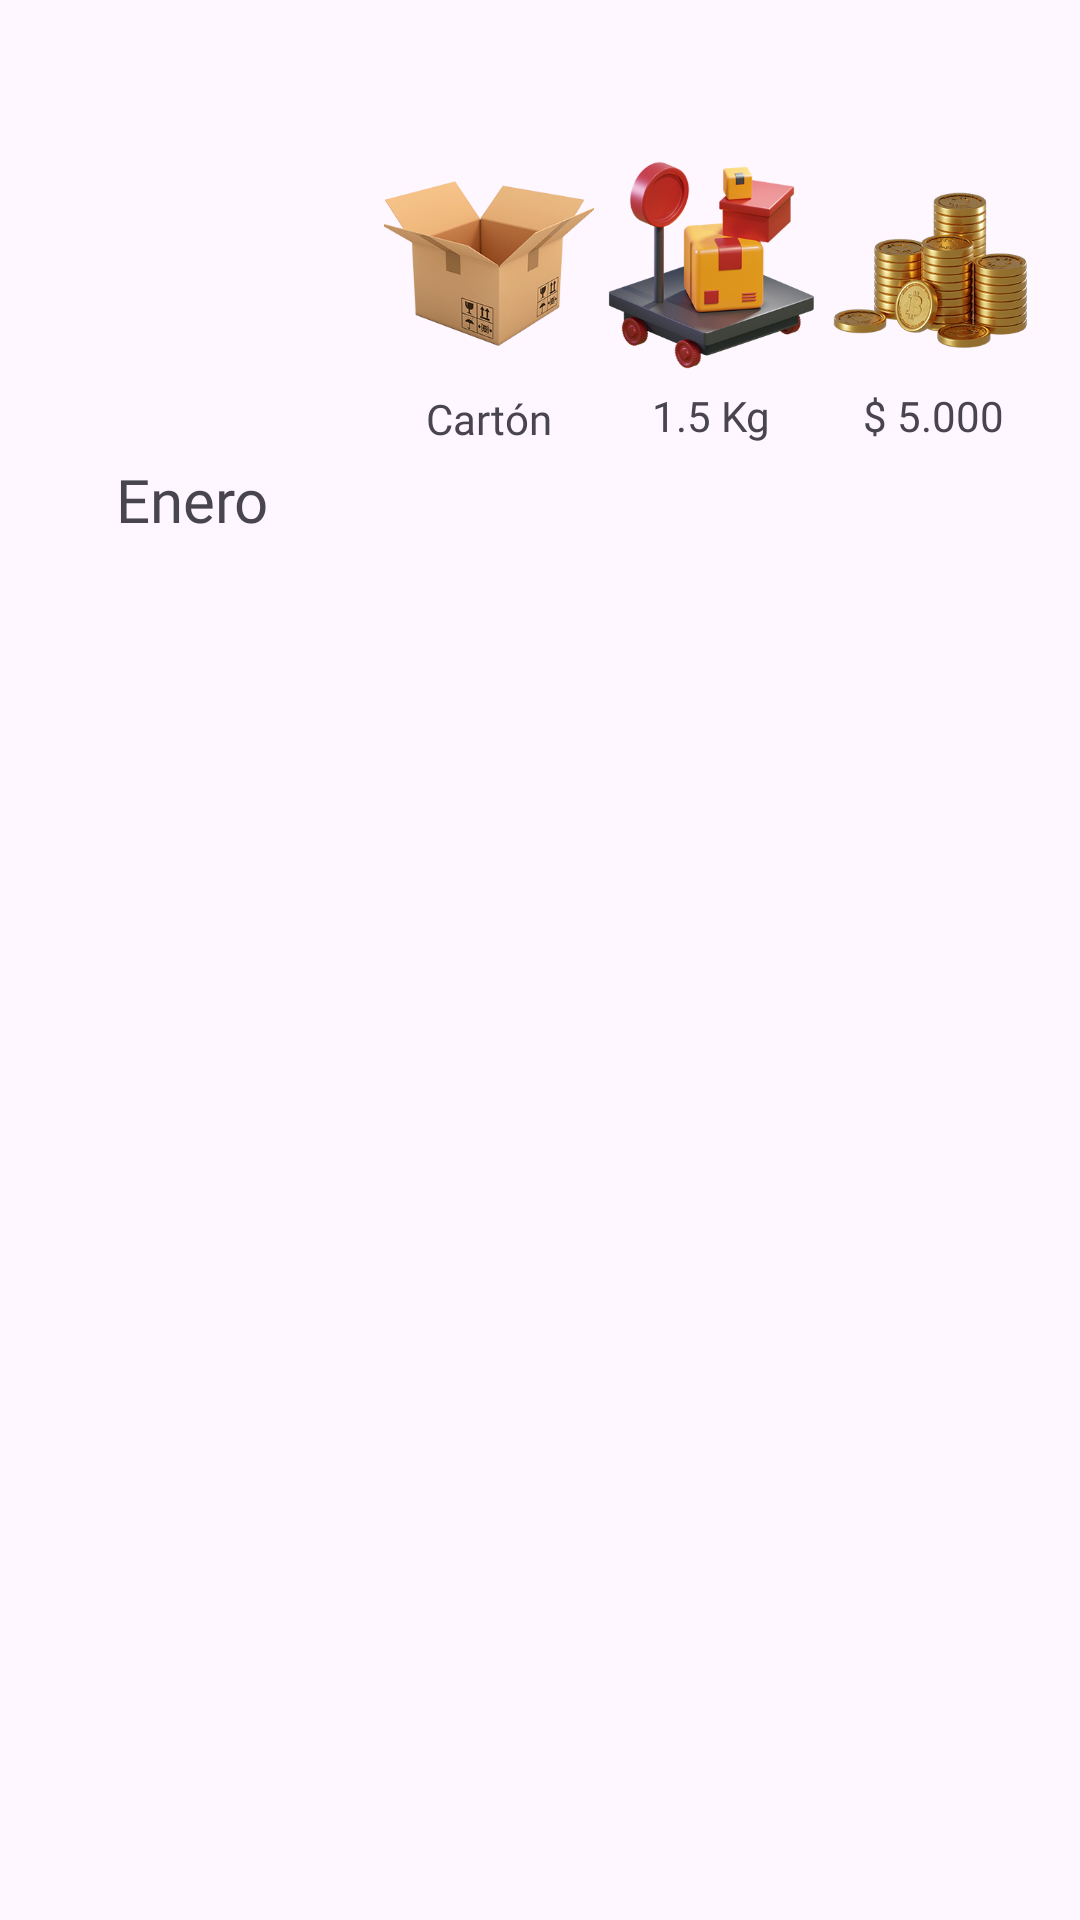

Icon click points for this 1080x1920 phone screenshot, format (x,y):
bascula: (711,265)
